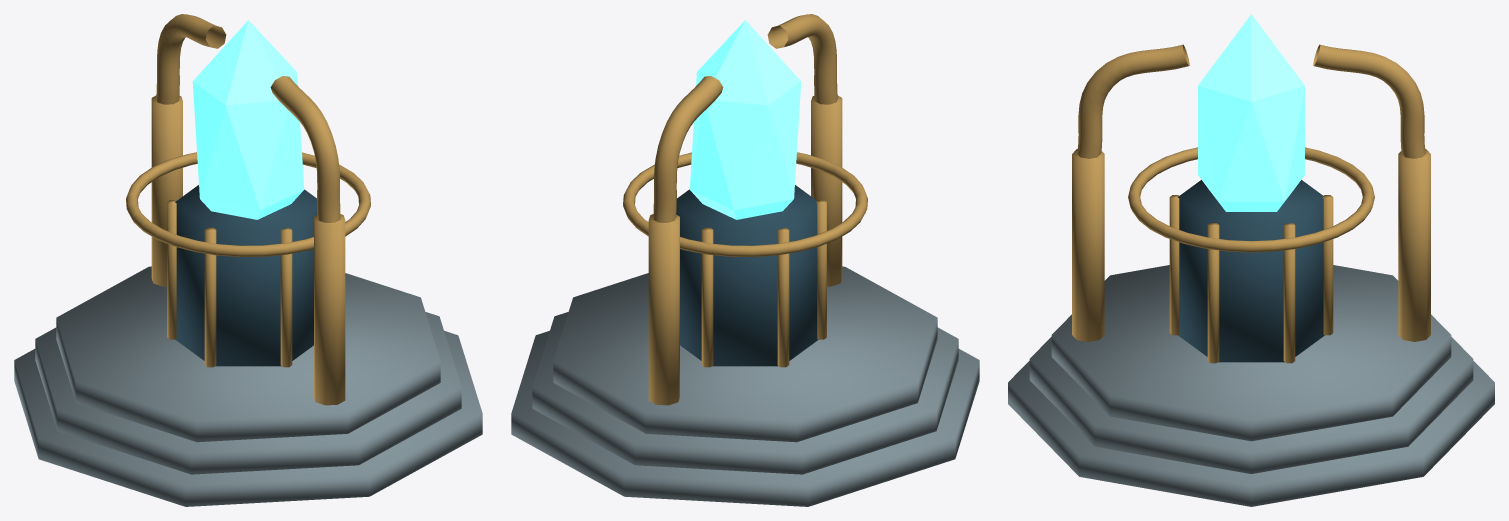
Rendered from spire-1.glb.
The picture shows the model from 3 angles, left to right: view 1: azimuth 30°, elevation 25°; view 2: azimuth 150°, elevation 25°; view 3: azimuth 270°, elevation 25°; orthographic projection.
Parts seen in each view (by area): view 1: Foundation_Carved blue limestone, Foundation_Royal blue enamel, Turret_Aged brass, Core_Storm crystal, Core_Aged brass, Foundation_Aged brass; view 2: Foundation_Carved blue limestone, Foundation_Royal blue enamel, Turret_Aged brass, Core_Storm crystal, Core_Aged brass, Foundation_Aged brass; view 3: Foundation_Carved blue limestone, Turret_Aged brass, Foundation_Royal blue enamel, Core_Storm crystal, Foundation_Aged brass, Core_Aged brass.
Boxes of the visible parts, bbox=[...] form: Foundation_Carved blue limestone: bbox=[14, 266, 482, 506]; Foundation_Royal blue enamel: bbox=[175, 185, 317, 366]; Turret_Aged brass: bbox=[151, 14, 345, 405]; Core_Storm crystal: bbox=[192, 20, 304, 219]; Core_Aged brass: bbox=[126, 152, 370, 256]; Foundation_Aged brass: bbox=[167, 200, 292, 367]; Foundation_Carved blue limestone: bbox=[511, 266, 979, 506]; Foundation_Royal blue enamel: bbox=[676, 185, 818, 366]; Turret_Aged brass: bbox=[648, 14, 842, 405]; Core_Storm crystal: bbox=[689, 20, 801, 219]; Core_Aged brass: bbox=[623, 152, 867, 256]; Foundation_Aged brass: bbox=[701, 200, 826, 367]; Foundation_Carved blue limestone: bbox=[1008, 265, 1494, 506]; Turret_Aged brass: bbox=[1072, 44, 1430, 341]; Foundation_Royal blue enamel: bbox=[1178, 180, 1324, 362]; Core_Storm crystal: bbox=[1198, 14, 1304, 211]; Foundation_Aged brass: bbox=[1169, 195, 1333, 363]; Core_Aged brass: bbox=[1128, 147, 1374, 252].
Size of the model in its own units: 2.24 by 1.98 by 2.24.
